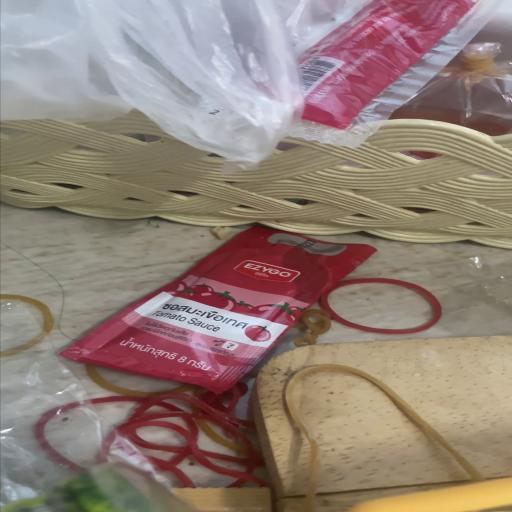brand_golden_good: (256, 337, 512, 511)
